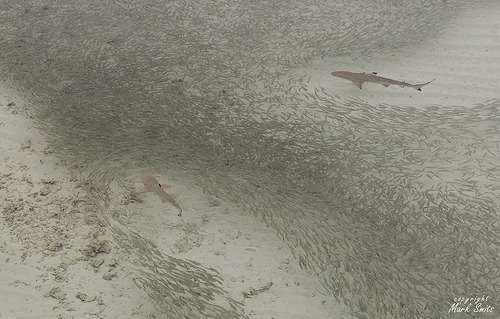shark: (121, 166, 192, 225)
